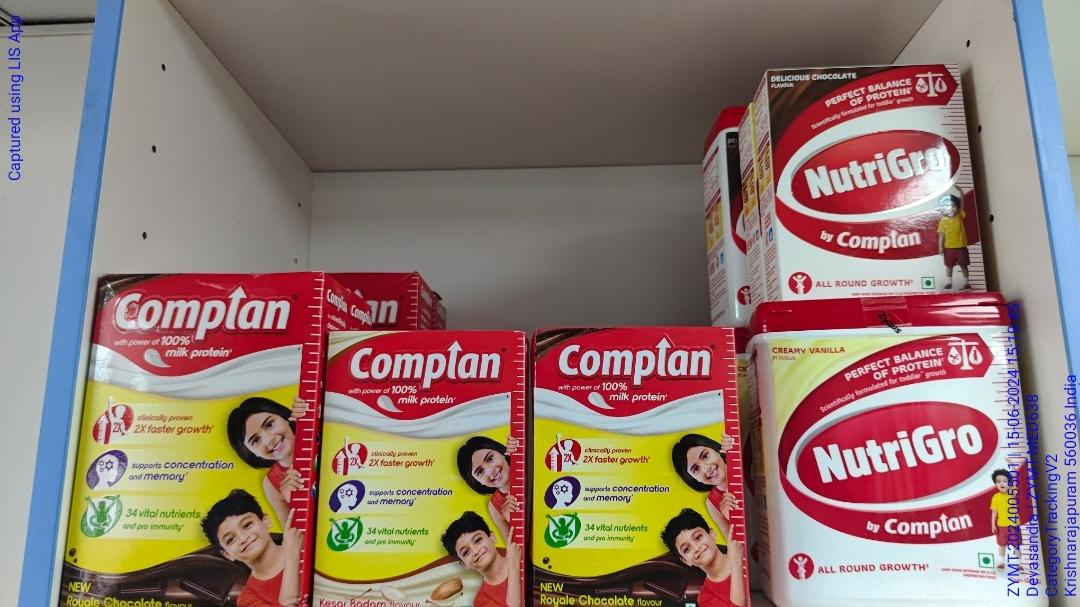COMPLAN_CHOCOLATE_200_GMS_PACK: (531, 326, 742, 607)
COMPLAN_CHOCOLATE_500_GMS_PACK: (90, 265, 313, 607)
COMPLAN_KESAR_BADAM_200_GMS_PACK: (325, 330, 523, 607)
